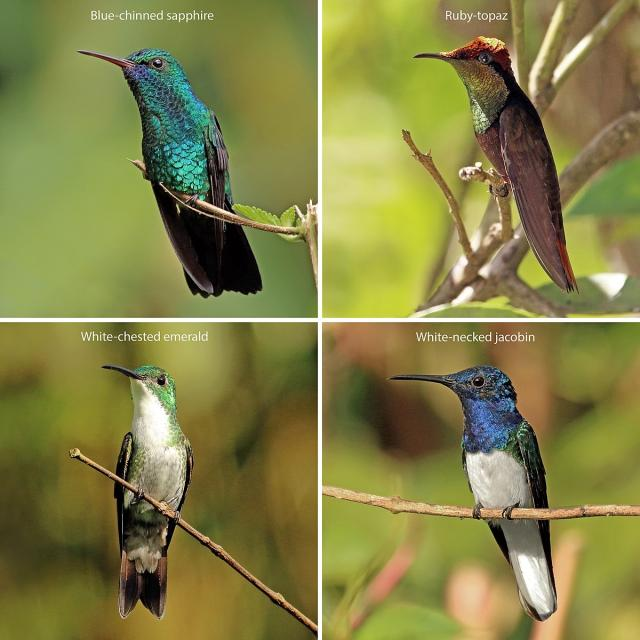Humming Bird: (73, 32, 264, 304), (412, 32, 586, 293), (391, 358, 563, 606), (94, 356, 197, 621)
